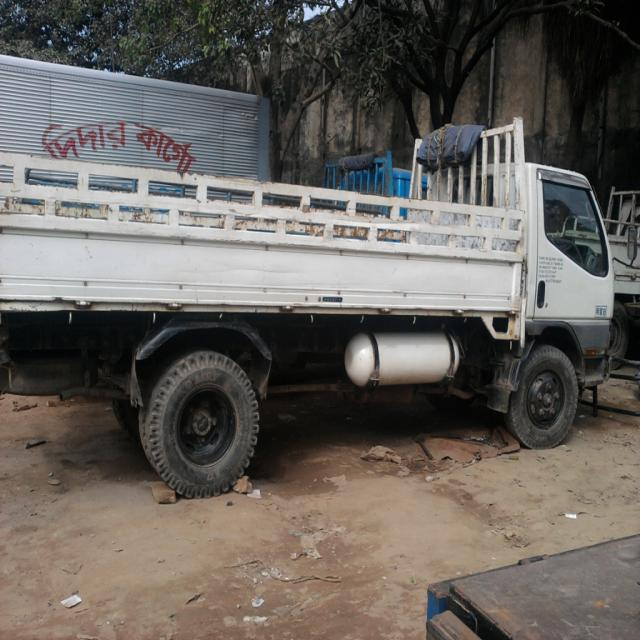Truck: (0, 117, 614, 493)
